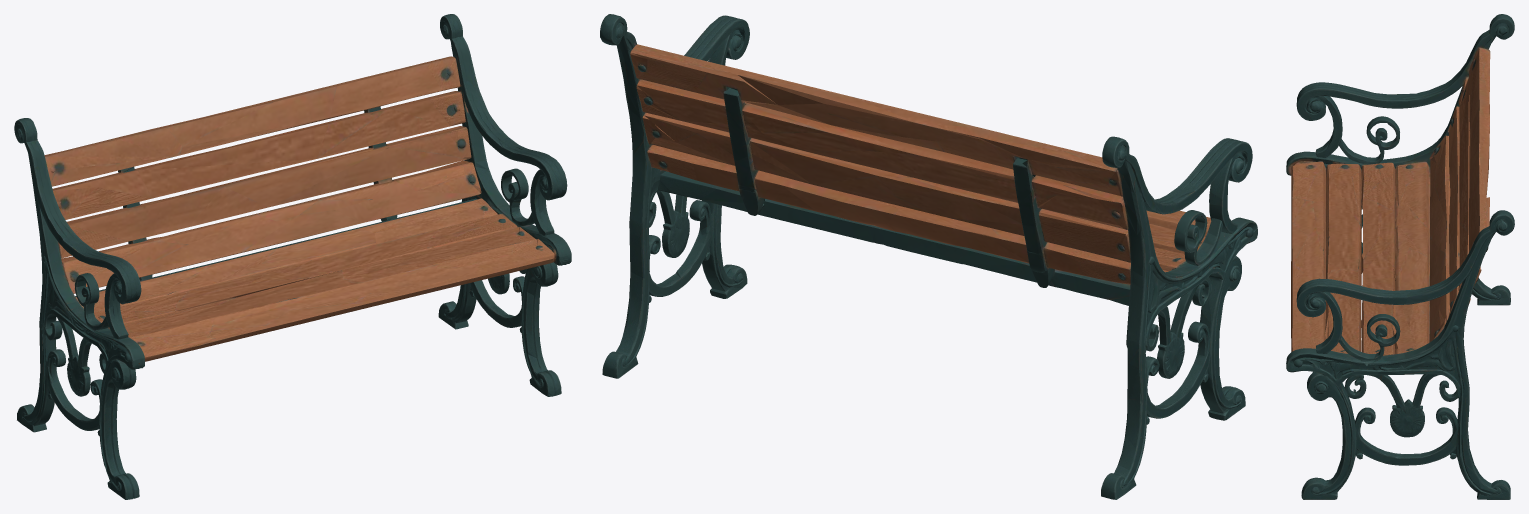
File: bench.glb
The picture shows the model from 3 angles, left to right: view 1: azimuth 30°, elevation 25°; view 2: azimuth 150°, elevation 25°; view 3: azimuth 270°, elevation 25°; orthographic projection. The views are drawn at different scales.
Bounding box in the file's own units: 1.92 × 1.24 × 0.9009.
Materials: 1 (1 with a texture image).
